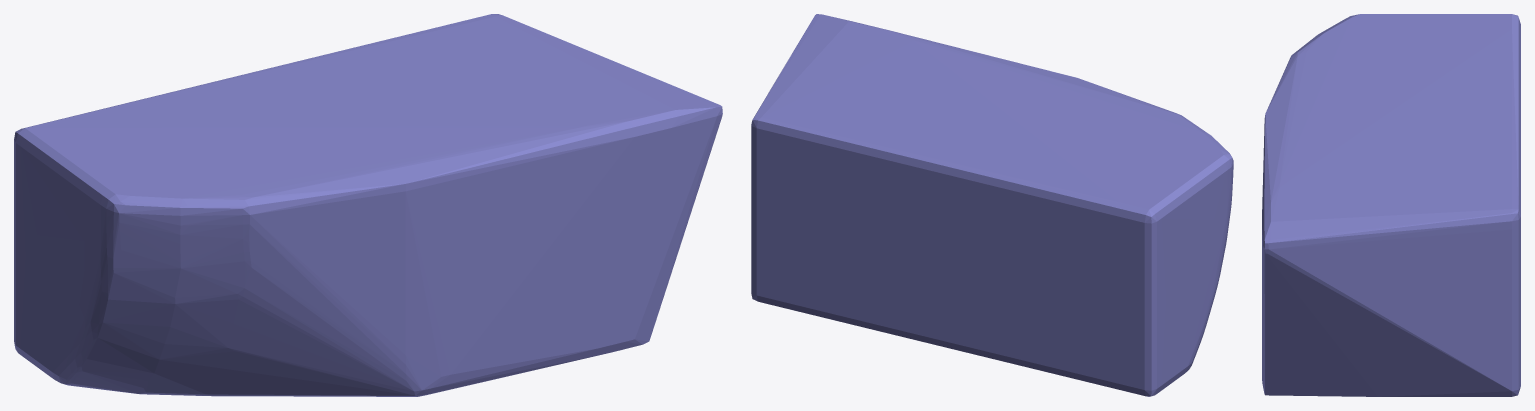
File: left_hip_yaw_link_part_12.obj
The picture shows the model from 3 angles, left to right: view 1: azimuth 30°, elevation 25°; view 2: azimuth 150°, elevation 25°; view 3: azimuth 270°, elevation 25°; orthographic projection. The views are drawn at different scales.
Size of the model in its own units: 0.0859 by 0.0334 by 0.041.
